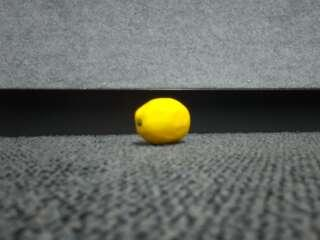lemon: (135, 98, 190, 144)
